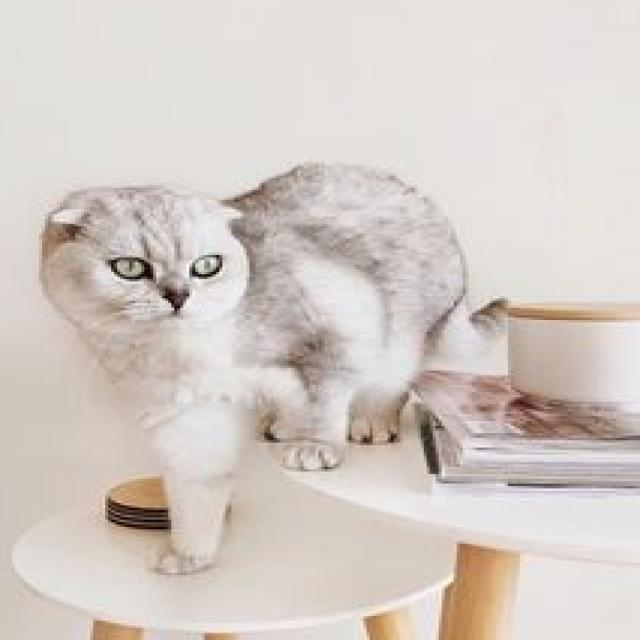Scottish Fold: (31, 152, 510, 584)
